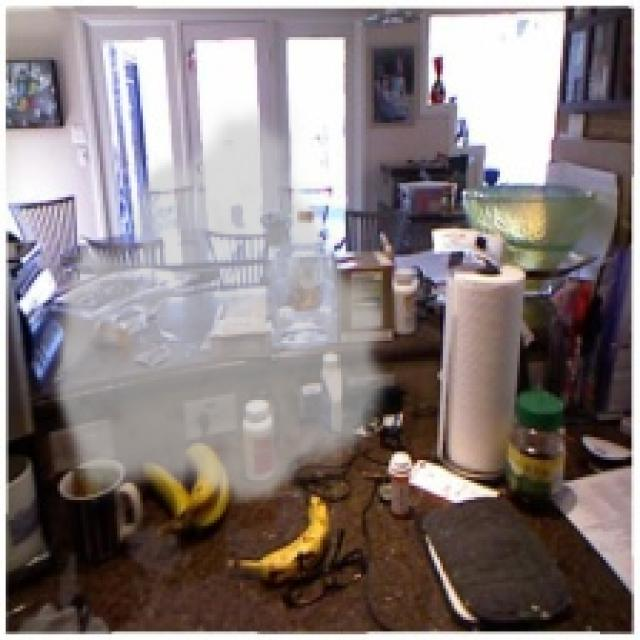smoke: (49, 100, 397, 509)
